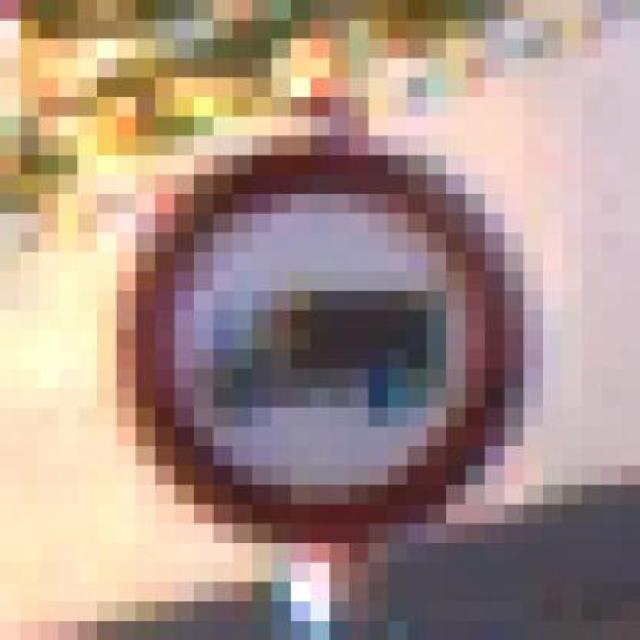Truck traffic is prohibited: (59, 97, 543, 543)
